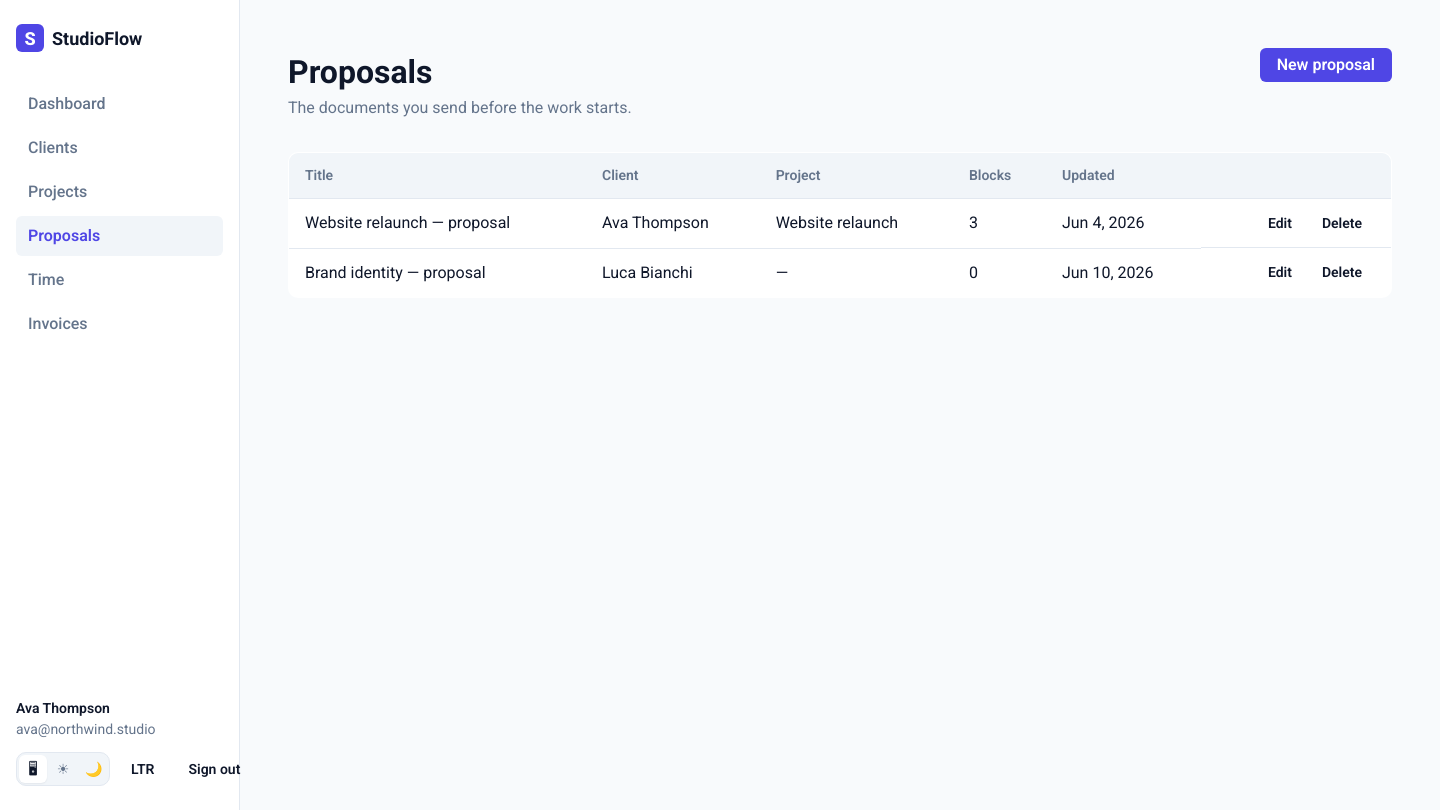
Test case: ProposalsPage › puts a proposal back when deleting it fails
Expected: the heading "Proposals" is shown, [288,53,432,91]
Expected: the link "Brand identity — proposal" is shown, [305,262,486,282]
What coordinates should you click on to do the following:
click the button with aria-label "Delete Brand identity — proposal"
I would click on:
 (1342, 272)
Its box is [1309,260,1375,284].
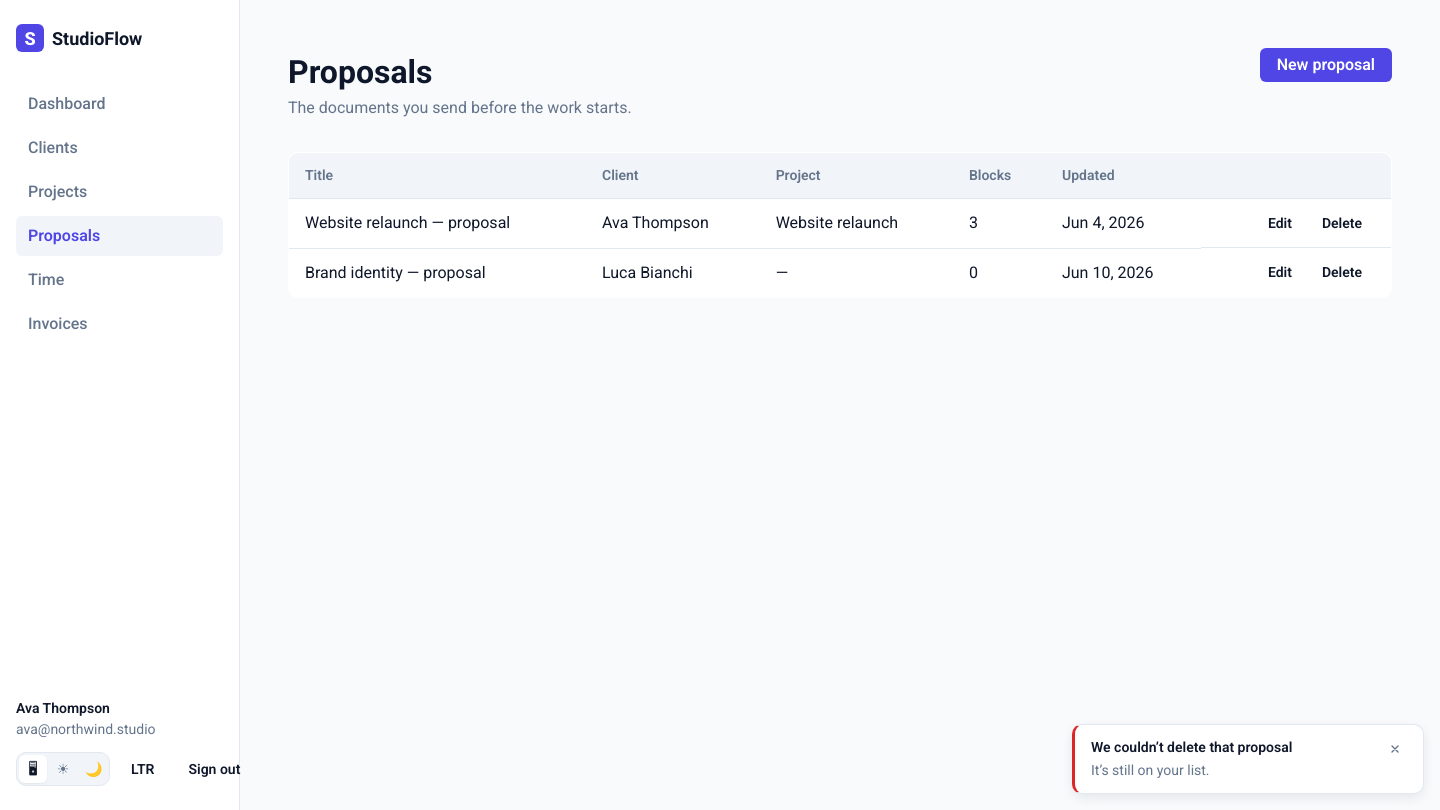
Expected: the link "Brand identity — proposal" is shown, [305,262,486,282]
Result: the text "We couldn’t delete that proposal" is shown at [1091,737,1292,758]
